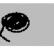correct: (2, 11, 30, 33)
